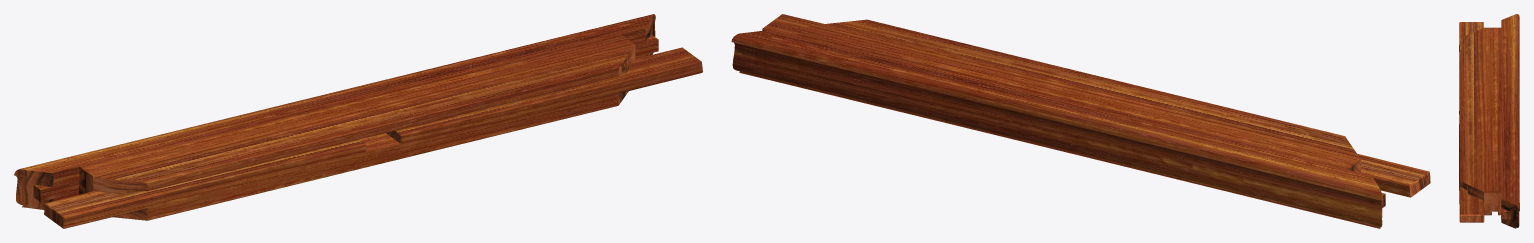
Rendered from quanyi_J_dabian_qian.FBX.
The picture shows the model from 3 angles, left to right: view 1: azimuth 30°, elevation 25°; view 2: azimuth 150°, elevation 25°; view 3: azimuth 270°, elevation 25°; orthographic projection. The views are drawn at different scales.
Visible parts, largest first — view 1: quanyi_J_dabian_qian; view 2: quanyi_J_dabian_qian; view 3: quanyi_J_dabian_qian.
Part boxes in pixels (bbox=[...]): quanyi_J_dabian_qian: bbox=[14, 14, 702, 228]; quanyi_J_dabian_qian: bbox=[731, 14, 1430, 228]; quanyi_J_dabian_qian: bbox=[1459, 14, 1519, 228].
Bounding box in the file's own units: 60.85 × 3.52 × 8.05.
2 materials, 2 textured.
